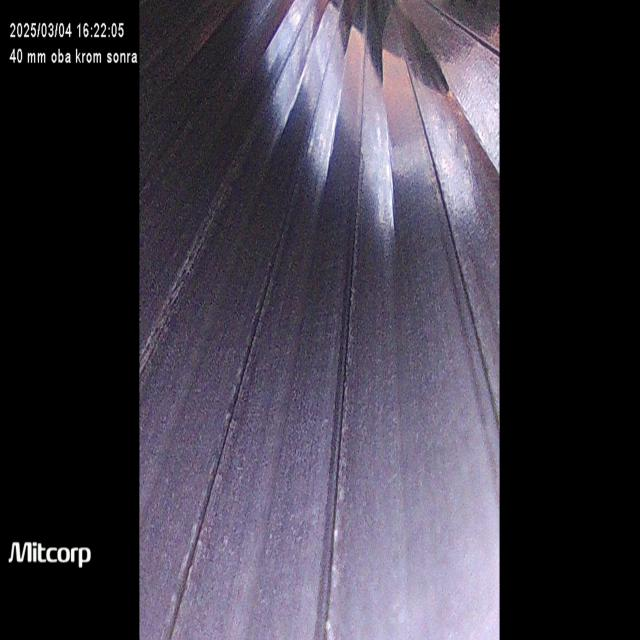hata_8.1: (323, 156, 368, 640)
